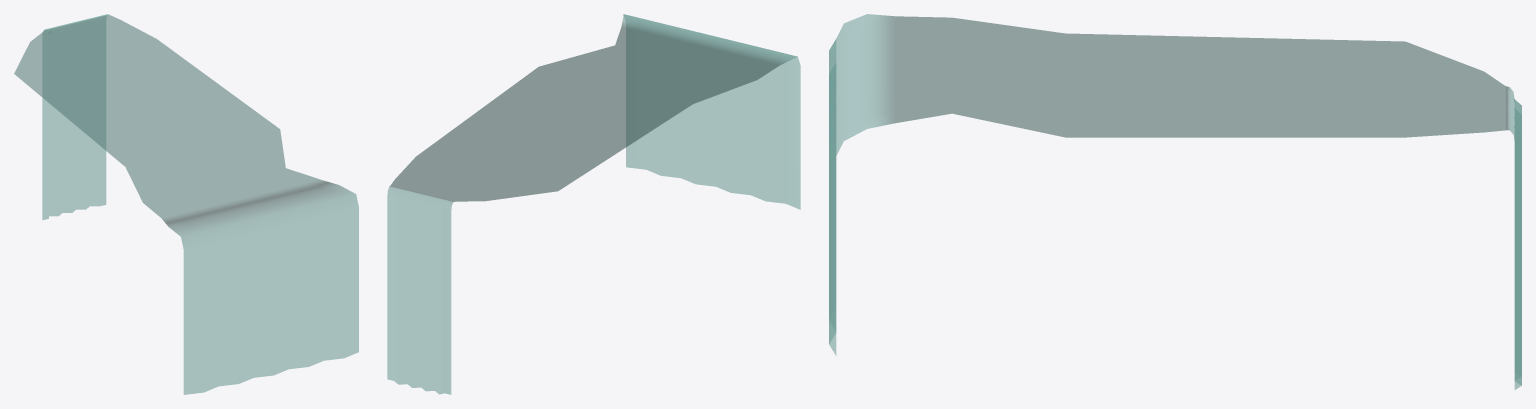
File: waterpoof.fbx
3 views of the same model, side by side, from view 1: azimuth 30°, elevation 25°; view 2: azimuth 150°, elevation 25°; view 3: azimuth 270°, elevation 25° (orthographic). The views are drawn at different scales.
Parts seen in each view (by area): view 1: pPlane4; view 2: pPlane4; view 3: pPlane4.
Boxes of the visible parts, bbox=[...] form: pPlane4: bbox=[14, 14, 358, 394]; pPlane4: bbox=[387, 14, 800, 394]; pPlane4: bbox=[829, 14, 1521, 389].
Bounding box in the file's own units: 308 × 308 × 730.
